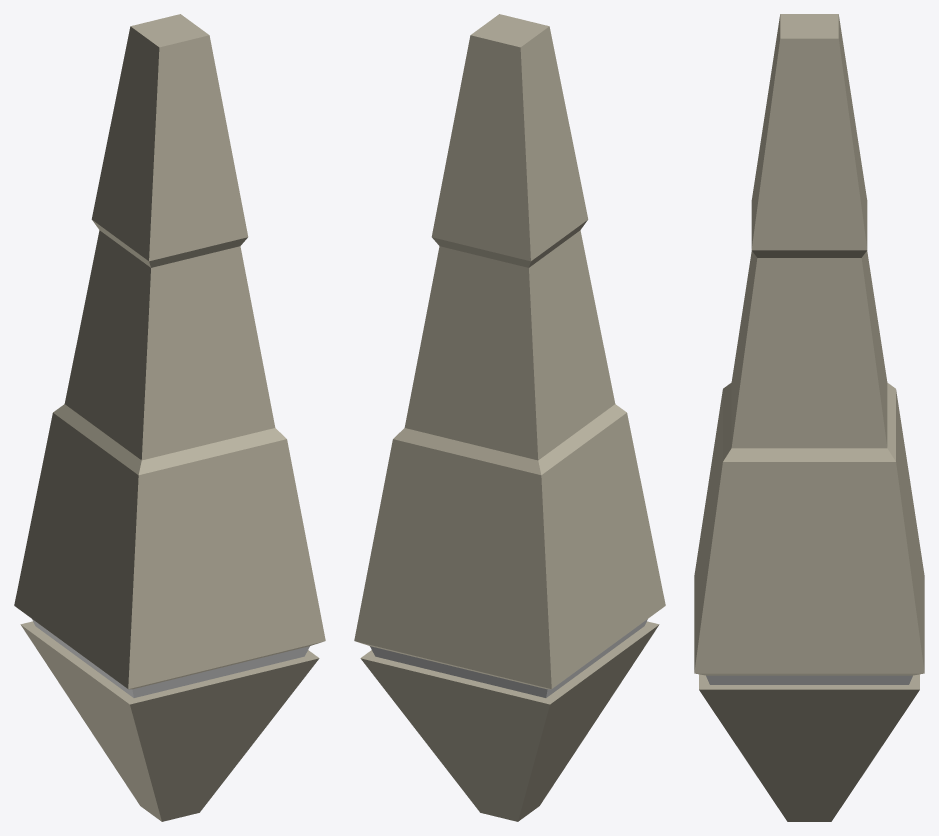
File: obelisk_3.fbx
3 renders of one model, left to right at view 1: azimuth 30°, elevation 25°; view 2: azimuth 150°, elevation 25°; view 3: azimuth 270°, elevation 25°, orthographic.
Visible parts, largest first — view 1: obelisk_3; view 2: obelisk_3; view 3: obelisk_3.
Part boxes in pixels (x1,y1,x2,y2): obelisk_3: [14, 14, 325, 821]; obelisk_3: [354, 14, 665, 821]; obelisk_3: [694, 14, 924, 821].
Bounding box in the file's own units: 2.39 × 9 × 2.39.
